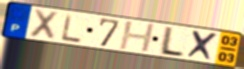7: (97, 17, 120, 48)
H: (117, 21, 157, 54)
L: (156, 25, 187, 59), (61, 12, 83, 44)
X: (185, 29, 222, 63), (27, 8, 61, 42)
